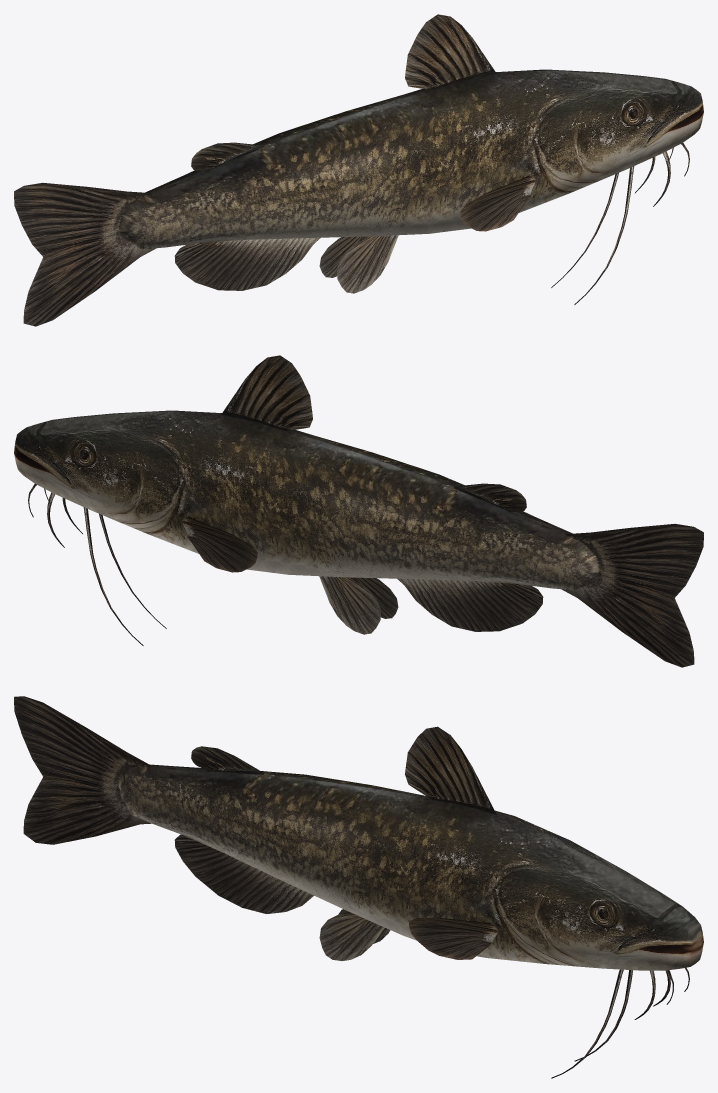
File: BlackBullhead.glb
3 views of the same model, one above another, from view 1: azimuth 30°, elevation 25°; view 2: azimuth 150°, elevation 25°; view 3: azimuth 330°, elevation 25° (orthographic).
Parts seen in each view (by area): view 1: BlackBullhead; view 2: BlackBullhead; view 3: BlackBullhead.
Part boxes in pixels (x1,y1,x2,y2): BlackBullhead: (14,14,703,326); BlackBullhead: (14,355,703,667); BlackBullhead: (14,696,703,1078).
Size of the model in its own units: 2 by 0.8708 by 0.2594.
1 material, 1 textured.
